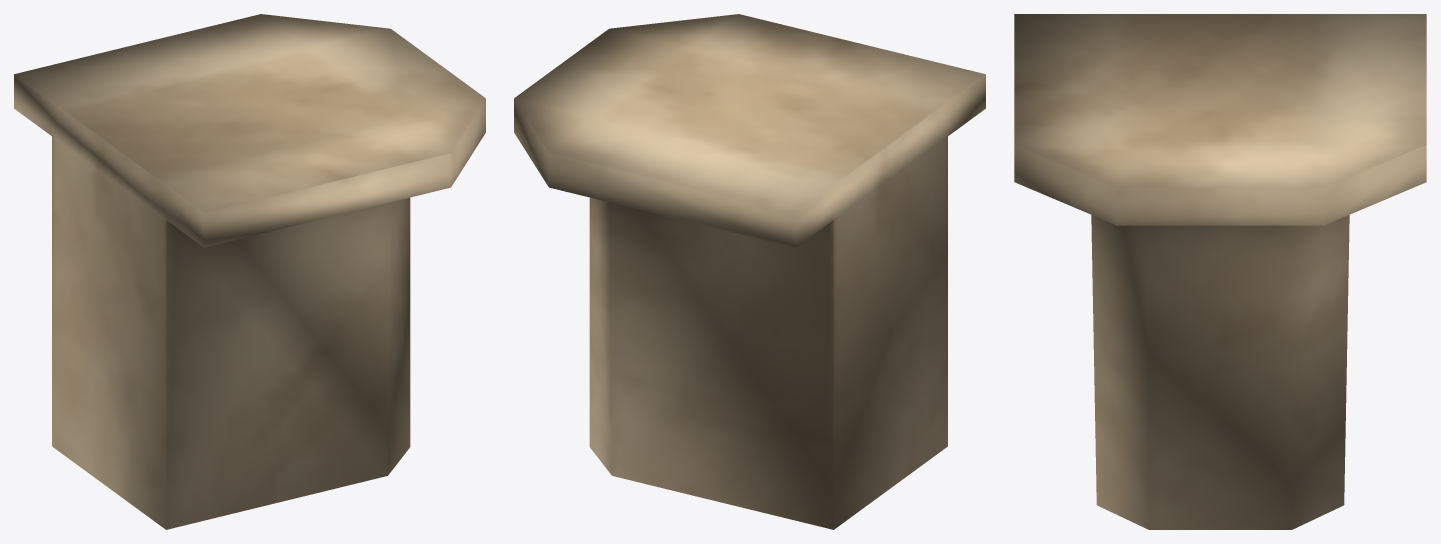
File: Kitchen Table1.fbx
The picture shows the model from 3 angles, left to right: view 1: azimuth 30°, elevation 25°; view 2: azimuth 150°, elevation 25°; view 3: azimuth 270°, elevation 25°; orthographic projection. The views are drawn at different scales.
Parts seen in each view (by area): view 1: Kitchen Table1; view 2: Kitchen Table1; view 3: Kitchen Table1.
Part boxes in pixels (x1=…): Kitchen Table1: x1=14, y1=14, x2=485, y2=529; Kitchen Table1: x1=514, y1=14, x2=985, y2=529; Kitchen Table1: x1=1014, y1=14, x2=1426, y2=529.
Bounding box in the file's own units: 1 × 1 × 1.
Materials: 1 (1 with a texture image).
